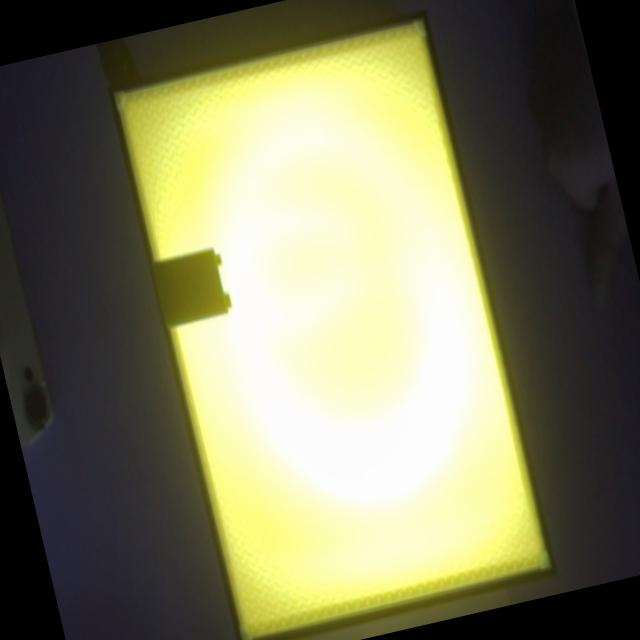Bateria: (151, 250, 227, 327)
Mesa: (107, 8, 556, 640)
Pestana: (224, 293, 231, 307), (215, 253, 222, 264)
